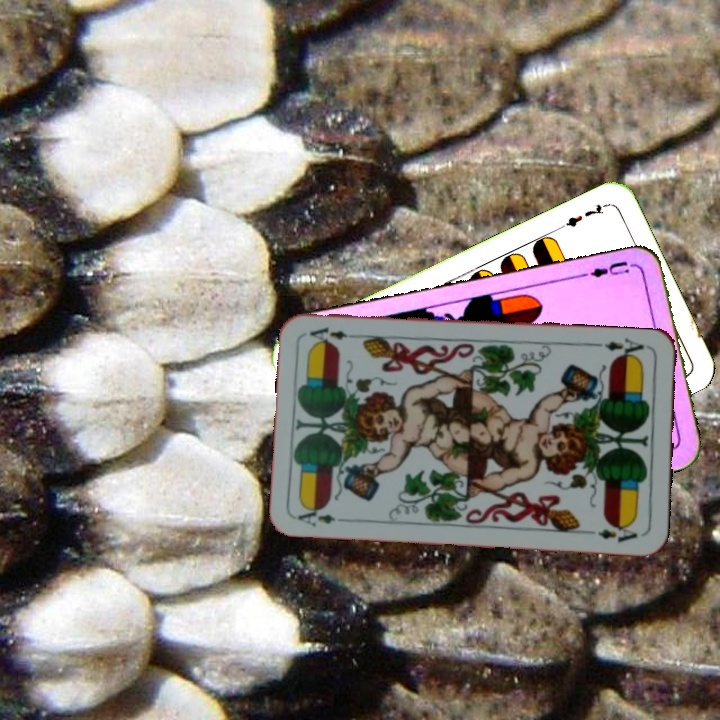E7: (555, 199, 611, 232)
EA: (594, 334, 653, 362), (294, 502, 352, 529)
EU: (581, 257, 640, 280)
